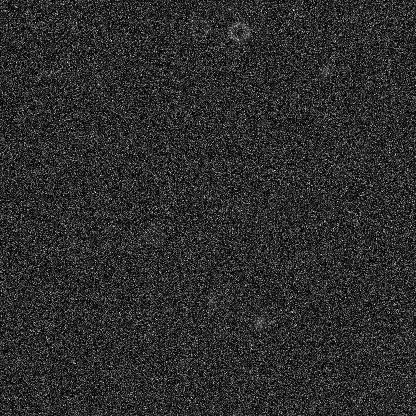Ring: (140, 223, 164, 247), (173, 89, 197, 113), (226, 19, 250, 43), (187, 15, 211, 39)
Spot: (61, 233, 77, 249), (305, 244, 321, 260), (251, 313, 267, 329), (203, 294, 219, 310), (317, 63, 333, 79), (355, 147, 371, 163)
